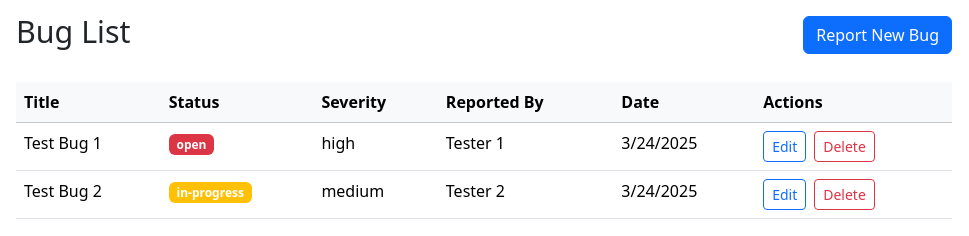
BugList Component › deletes a bug when delete button is clicked and confirmed
Expected: the text "Test Bug 1" is shown, [16,122,161,170]
Click the first delete button
Click the button "Delete" in the row of "Test Bug 1": (844, 146) [814,130,875,162]
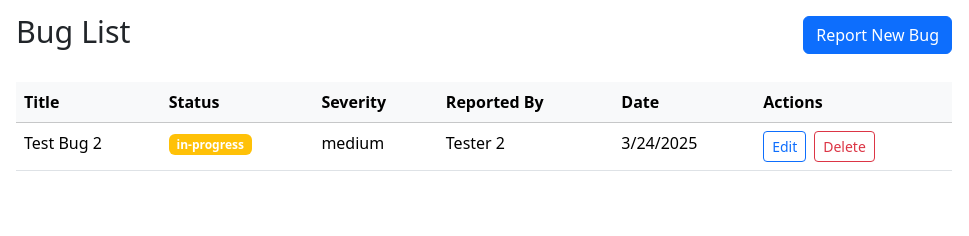
Expected: the text "Test Bug 2" is shown, [16,122,161,170]
Now the text "Test Bug 1" is gone
